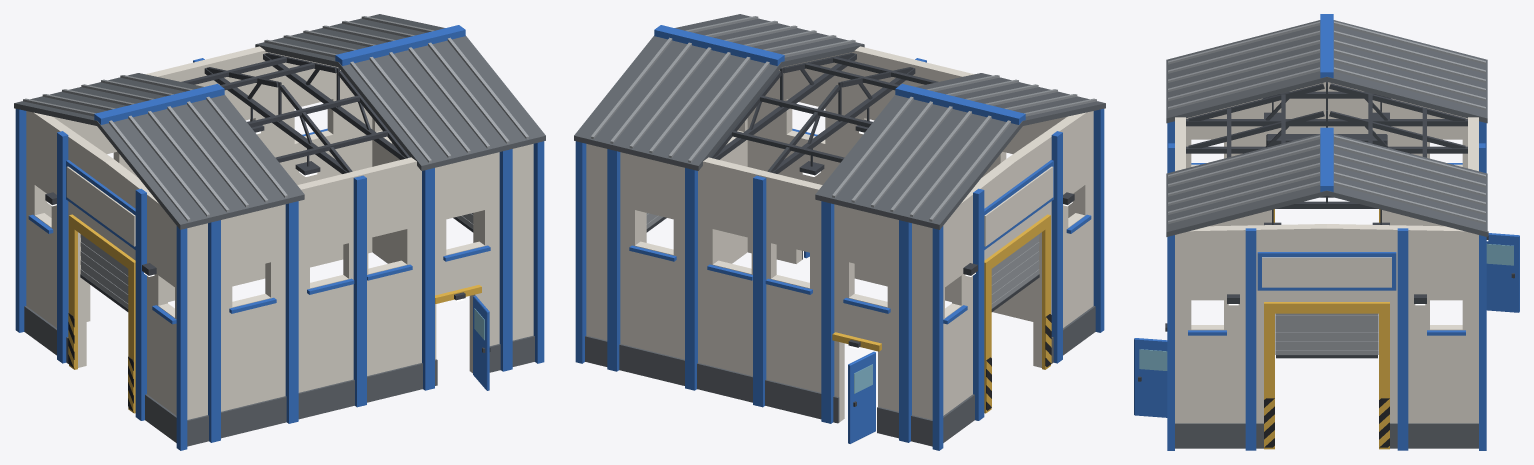
File: warehouse-exterior.glb
3 renders of one model, left to right at view 1: azimuth 30°, elevation 25°; view 2: azimuth 150°, elevation 25°; view 3: azimuth 270°, elevation 25°, orthographic. The views are drawn at different scales.
Parts seen in each view (by area): view 1: Warehouse_Shell, Warehouse_Roof, RollUpDoor_West, SideDoor_South; view 2: Warehouse_Shell, Warehouse_Roof, SideDoor_North, RollUpDoor_West; view 3: Warehouse_Shell, Warehouse_Roof, RollUpDoor_East, SideDoor_South, SideDoor_North, Warehouse_DoorDrums, Warehouse_Lamps.
Boxes of the visible parts, left/top/right/bottom form: Warehouse_Shell: left=15, top=46, right=544, bottom=450; Warehouse_Roof: left=14, top=14, right=545, bottom=229; RollUpDoor_West: left=80, top=234, right=128, bottom=311; SideDoor_South: left=473, top=295, right=490, bottom=390; Warehouse_Shell: left=575, top=46, right=1104, bottom=450; Warehouse_Roof: left=574, top=14, right=1105, bottom=229; SideDoor_North: left=848, top=351, right=875, bottom=443; RollUpDoor_West: left=991, top=234, right=1039, bottom=311; Warehouse_Shell: left=1165, top=82, right=1488, bottom=450; Warehouse_Roof: left=1166, top=14, right=1487, bottom=236; RollUpDoor_East: left=1275, top=313, right=1378, bottom=358; SideDoor_South: left=1134, top=338, right=1167, bottom=417; SideDoor_North: left=1486, top=233, right=1519, bottom=312; Warehouse_DoorDrums: left=1266, top=134, right=1387, bottom=146; Warehouse_Lamps: left=1165, top=102, right=1488, bottom=333.
Bounding box in the file's own units: 37.6 × 26.95 × 35.53.
